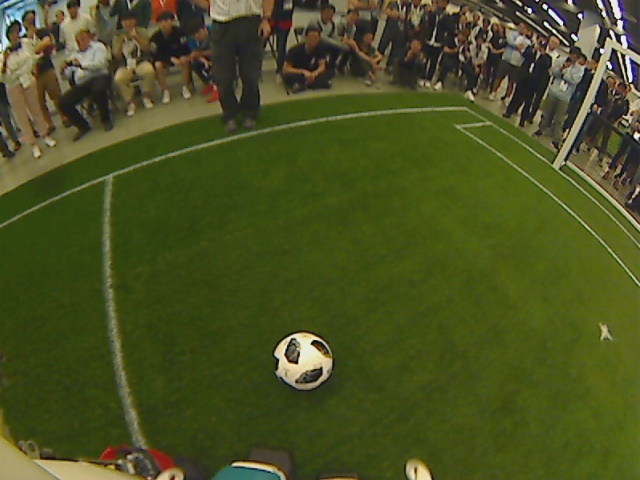ball: (273, 328, 335, 390)
